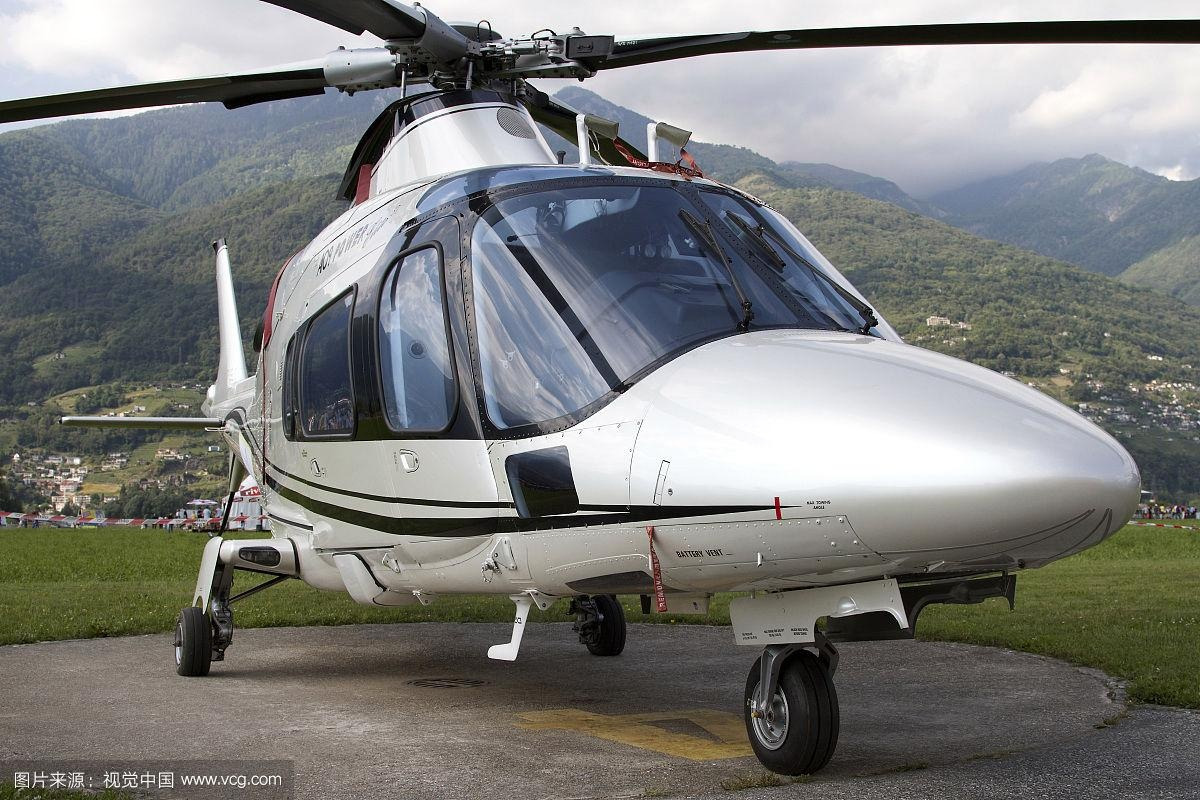airplane: (128, 1, 1194, 711)
